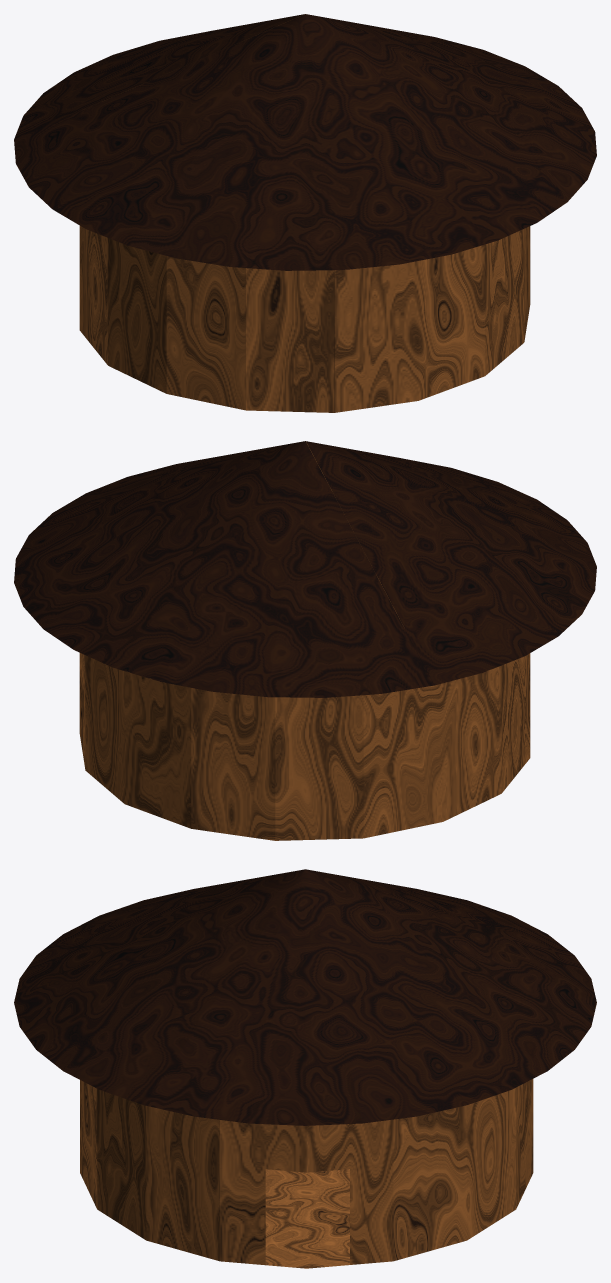
File: Desert House.fbx
3 views of the same model, one above another, from view 1: azimuth 30°, elevation 25°; view 2: azimuth 150°, elevation 25°; view 3: azimuth 270°, elevation 25° (orthographic).
Visible parts, largest first — view 1: Cylinder; view 2: Cylinder; view 3: Cylinder.
Part boxes in pixels (bbox=[...]): Cylinder: bbox=[14, 14, 596, 412]; Cylinder: bbox=[14, 441, 596, 840]; Cylinder: bbox=[14, 869, 596, 1268].
Bounding box in the file's own units: 386 × 222 × 386.
Materials: 2 (2 with a texture image).
